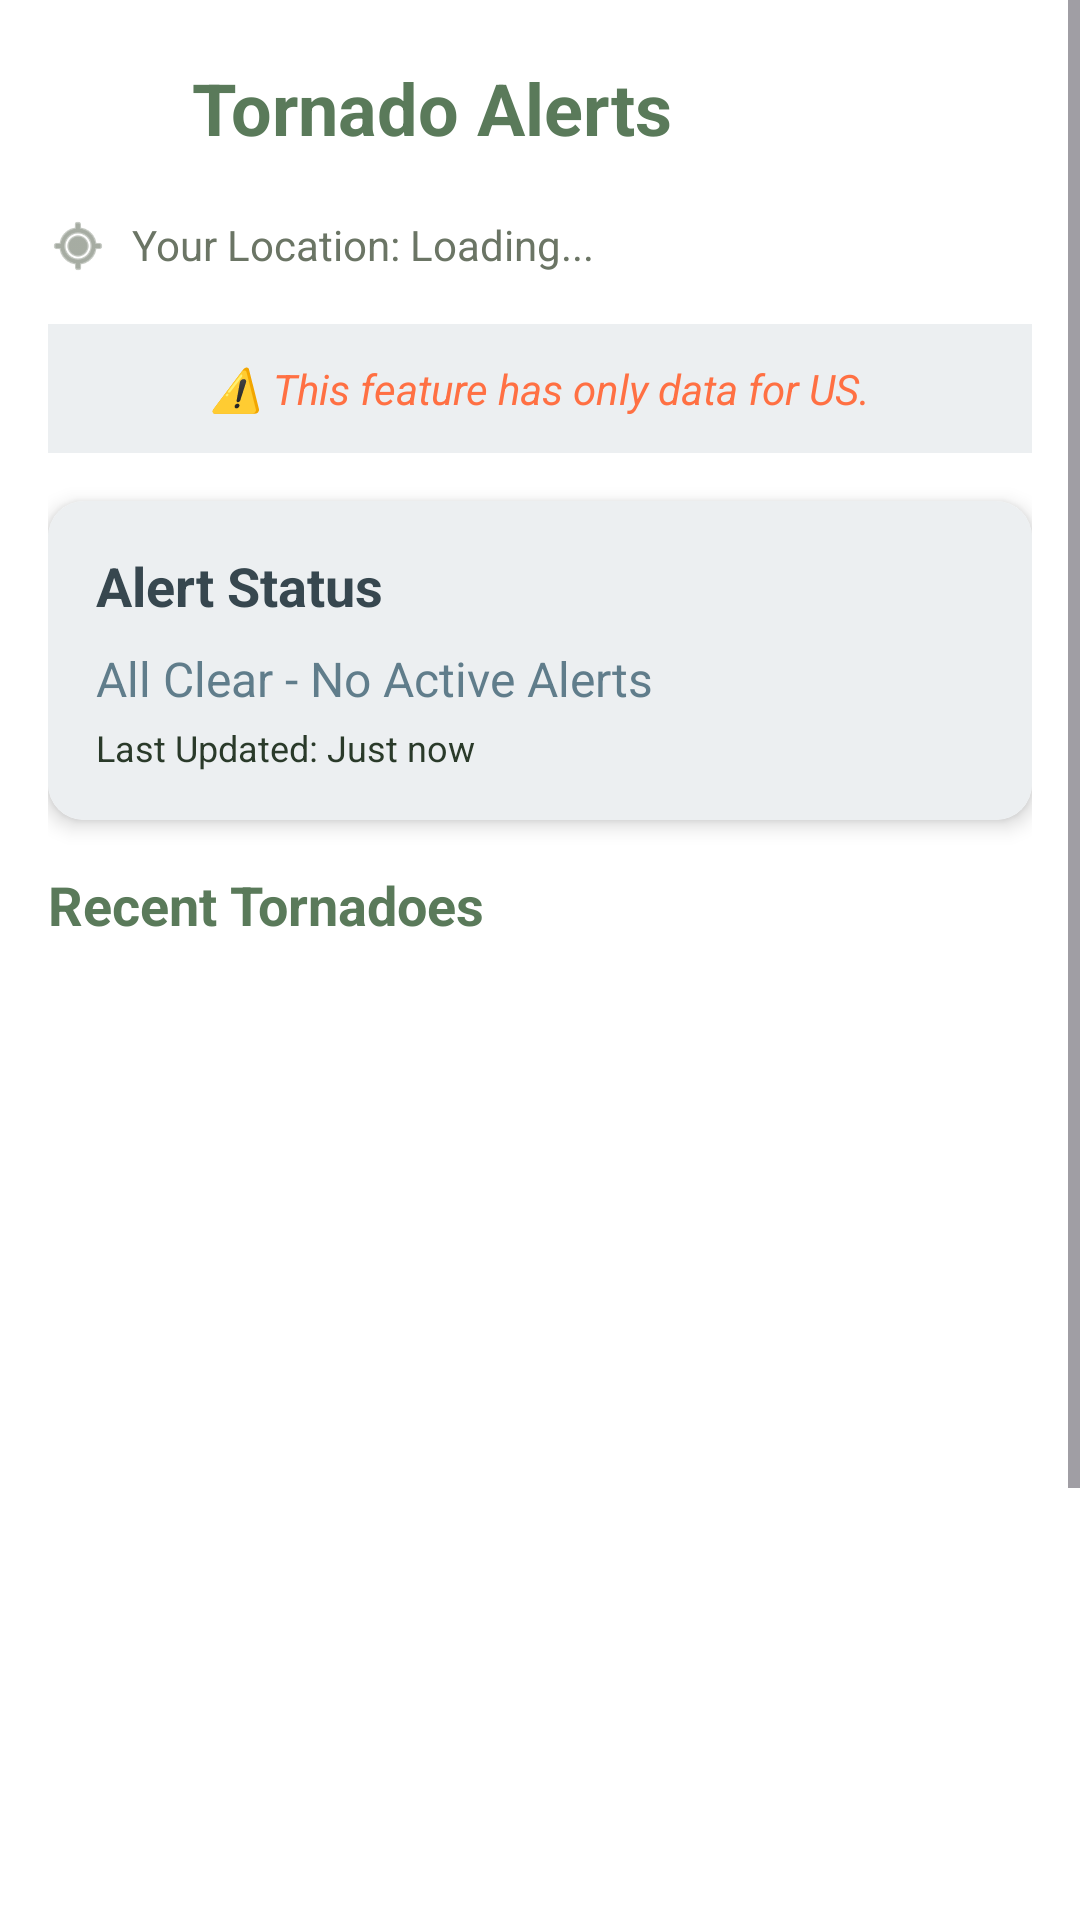

Screen size 1080 x 1920. Icon name, then its box in pixels as bbox=[x1, y1, x2, y2]:
mylocation: bbox=[54, 222, 102, 270]
